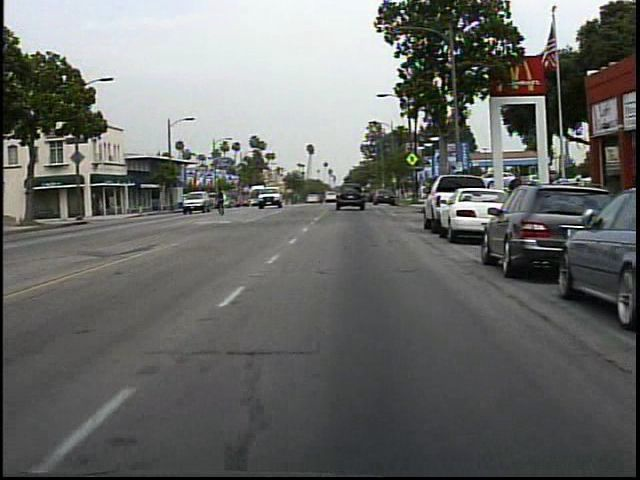person: (503, 169, 531, 225), (214, 185, 231, 219)
